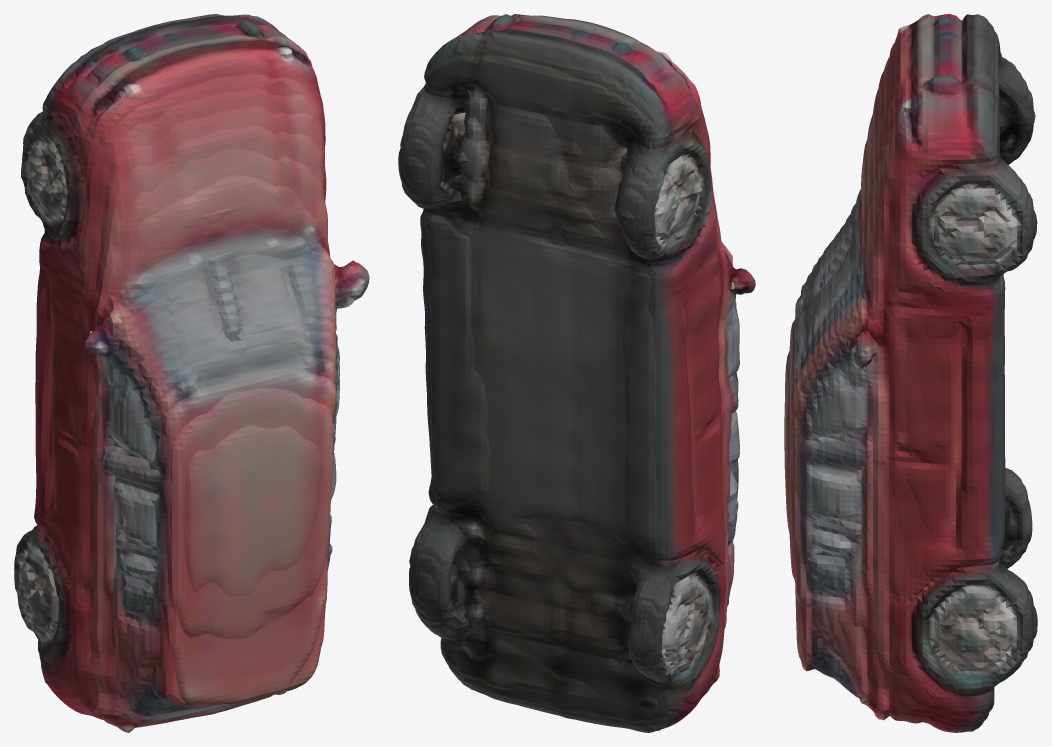
Rendered from car.glb.
The picture shows the model from 3 angles, left to right: view 1: azimuth 30°, elevation 25°; view 2: azimuth 150°, elevation 25°; view 3: azimuth 270°, elevation 25°; orthographic projection. The views are drawn at different scales.
Visible parts, largest first — view 1: world; view 2: world; view 3: world.
Part boxes in pixels (x1=…): world: x1=14, y1=14, x2=369, y2=732; world: x1=398, y1=14, x2=755, y2=732; world: x1=784, y1=14, x2=1037, y2=732.
Size of the model in its own units: 0.4018 by 0.9036 by 0.3115.
